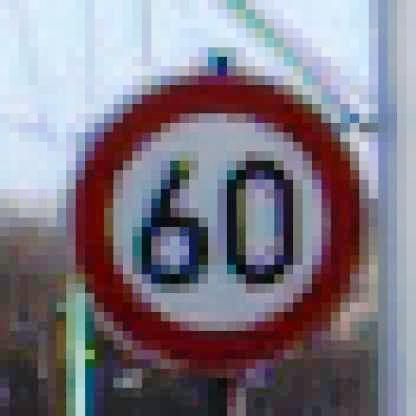Speed Limit -60-: (69, 68, 376, 373)
